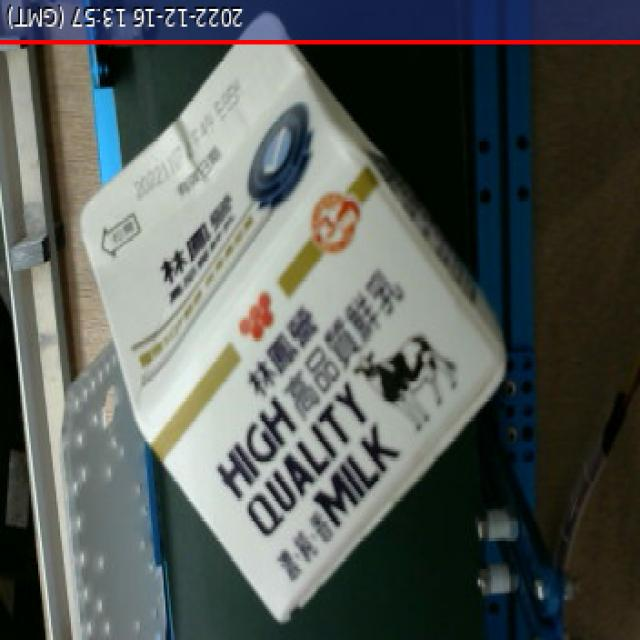non_white_jug: (57, 4, 536, 637)
